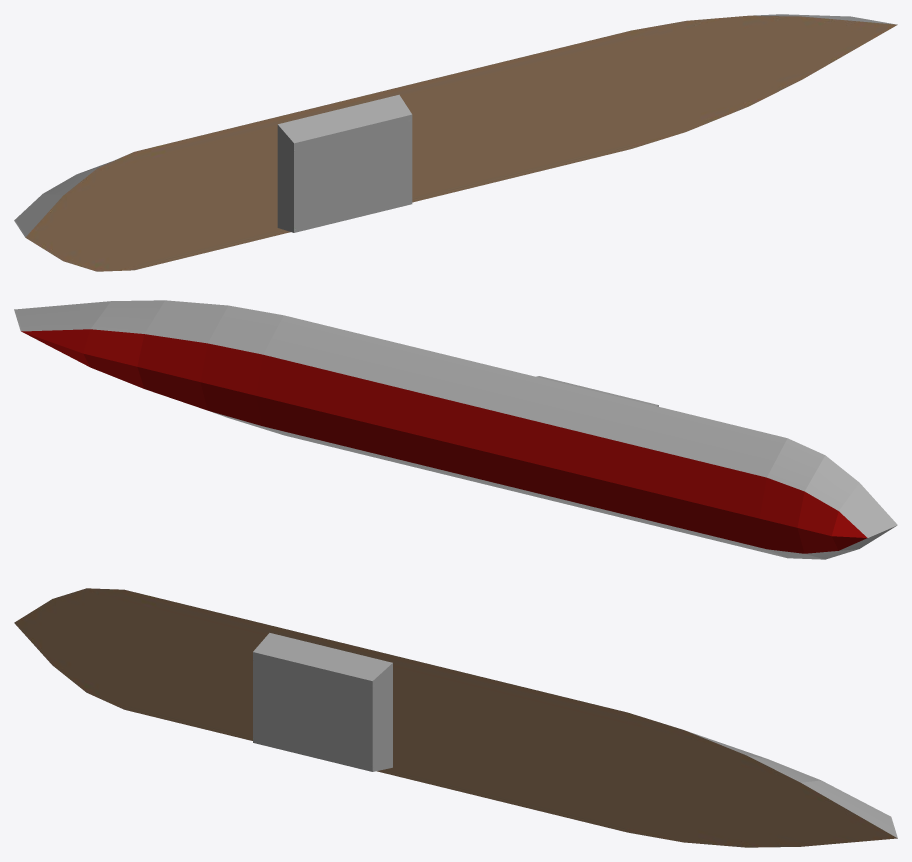
Rendered from Ship_TopDown.glb.
The picture shows the model from 3 angles, top to bottom: view 1: azimuth 30°, elevation 25°; view 2: azimuth 150°, elevation 25°; view 3: azimuth 330°, elevation 25°; orthographic projection.
Parts seen in each view (by area): view 1: Ship.TopDown; view 2: Ship.TopDown; view 3: Ship.TopDown.
Part boxes in pixels (bbox=[...]): Ship.TopDown: bbox=[14, 14, 897, 271]; Ship.TopDown: bbox=[14, 300, 897, 559]; Ship.TopDown: bbox=[14, 588, 897, 847].
Bounding box in the file's own units: 15.41 × 2 × 1.35.
Materials: 1 (1 with a texture image).
